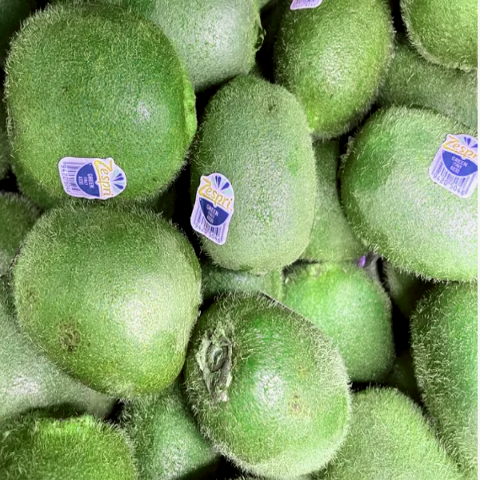kiwi: (1, 0, 212, 225), (9, 181, 221, 400), (150, 299, 380, 479), (183, 70, 337, 296), (340, 82, 480, 288)
